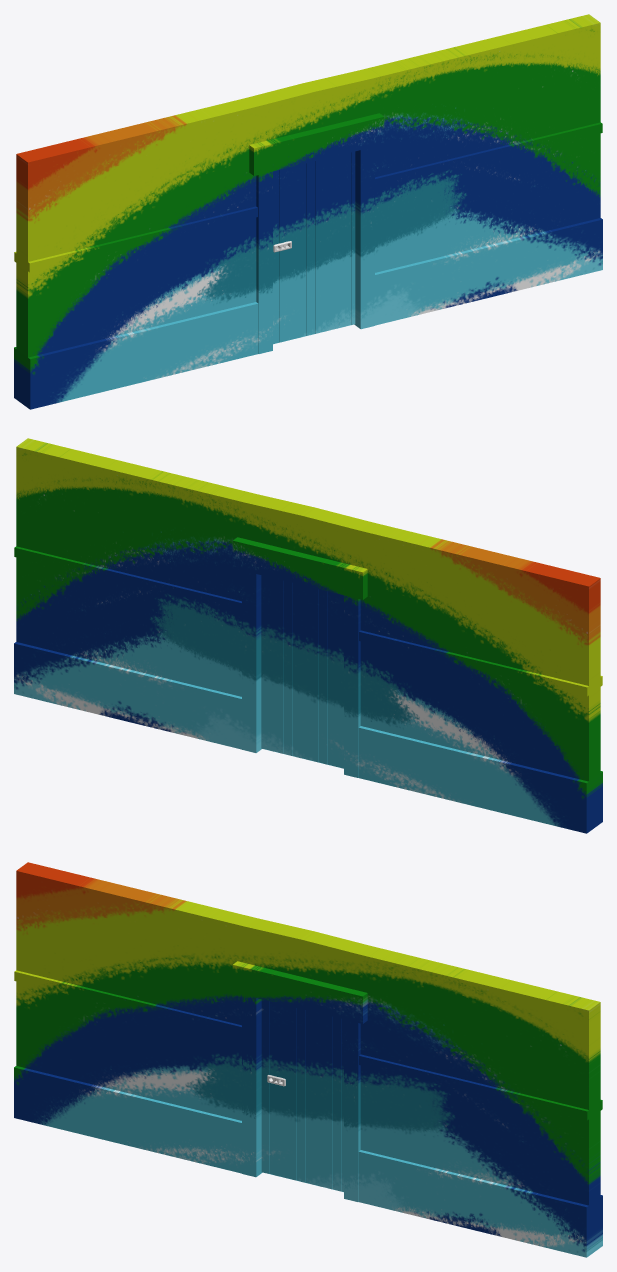
Rendered from FinalRoom.fbx.
3 views of the same model, one above another, from view 1: azimuth 30°, elevation 25°; view 2: azimuth 150°, elevation 25°; view 3: azimuth 330°, elevation 25° (orthographic).
Parts seen in each view (by area): view 1: Cube.006, Cube.005, Cube; view 2: Cube.006, Cube.005, Cube; view 3: Cube.006, Cube.005, Cube.
Boxes of the visible parts, x1,y1,x2,y2 form: Cube.006: (14,14,602,409); Cube.005: (273,151,355,344); Cube: (249,113,384,353); Cube.006: (14,438,602,833); Cube.005: (261,575,343,768); Cube: (232,537,367,777); Cube.006: (14,862,602,1257); Cube.005: (261,999,343,1192); Cube: (232,961,367,1201).
Size of the model in its own units: 4337 by 1782 by 280.
2 materials, 1 textured.
